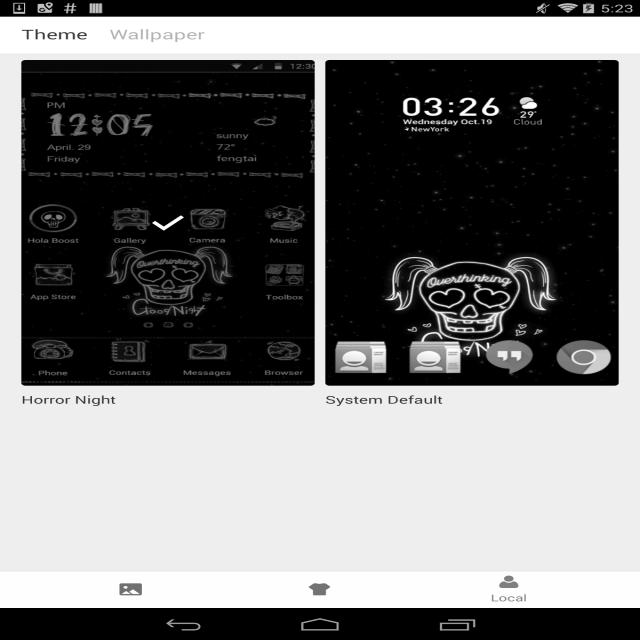ImageView: (21, 60, 315, 386), (325, 60, 619, 386), (119, 582, 142, 596), (308, 582, 331, 596), (498, 574, 520, 588)
TextView: (21, 392, 315, 407), (325, 392, 619, 407), (98, 17, 216, 53), (11, 17, 98, 53), (491, 591, 527, 604)
